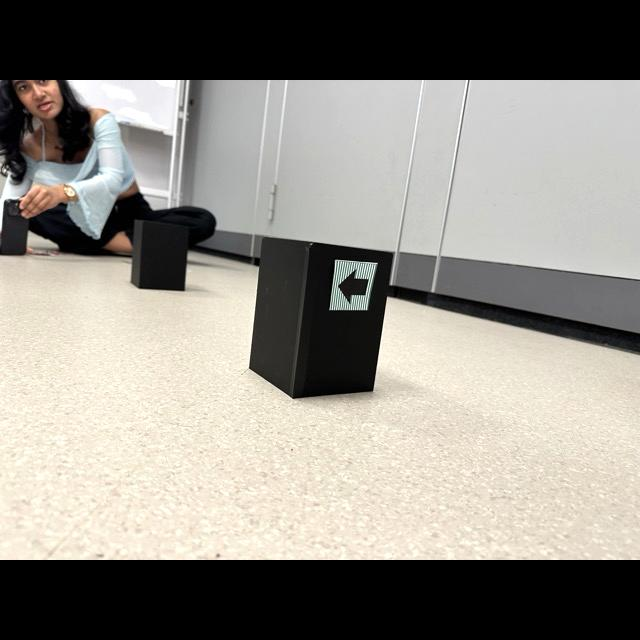LEFT: (338, 269, 368, 304)
